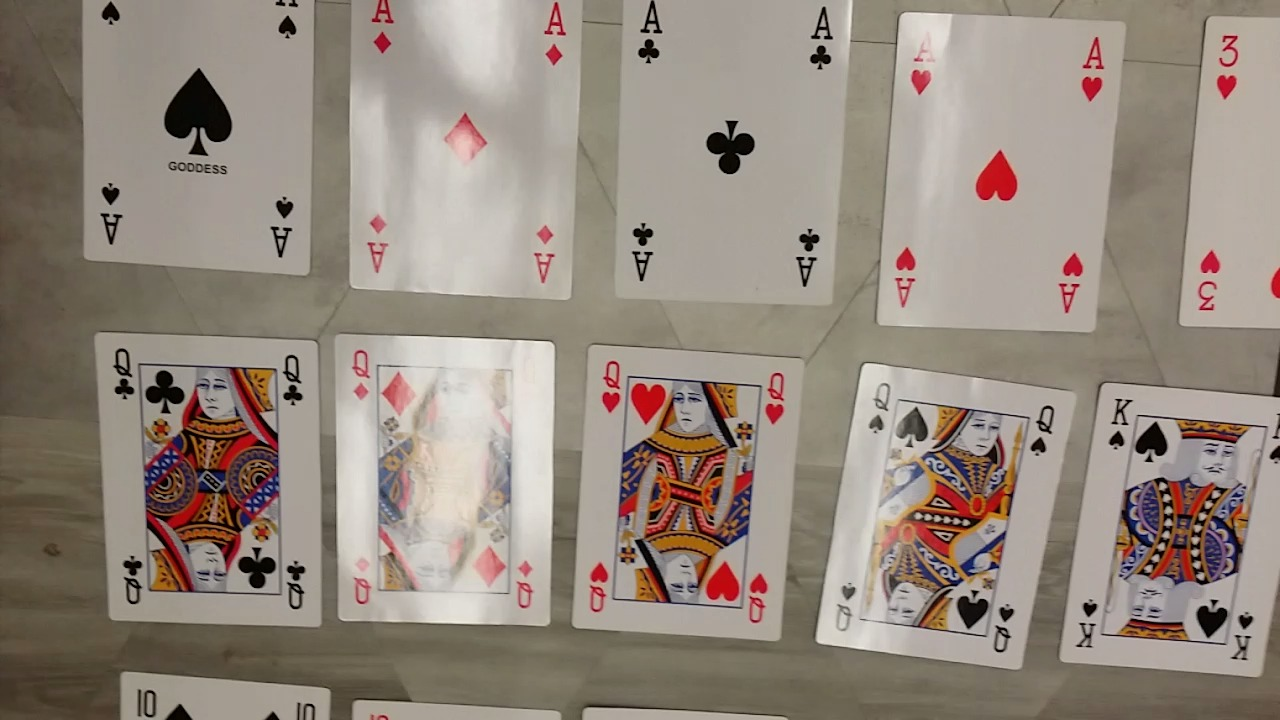1_club: (610, 2, 848, 305)
1_diamond: (350, 0, 584, 299)
1_heart: (872, 10, 1119, 330)
1_spade: (67, 0, 315, 277)
3_heart: (1180, 15, 1280, 329)
king_spade: (1053, 381, 1273, 675)
queen_club: (86, 328, 327, 630)
queen_diamond: (330, 334, 562, 625)
queen_heart: (568, 340, 804, 642)
queen_spade: (815, 357, 1084, 674)
